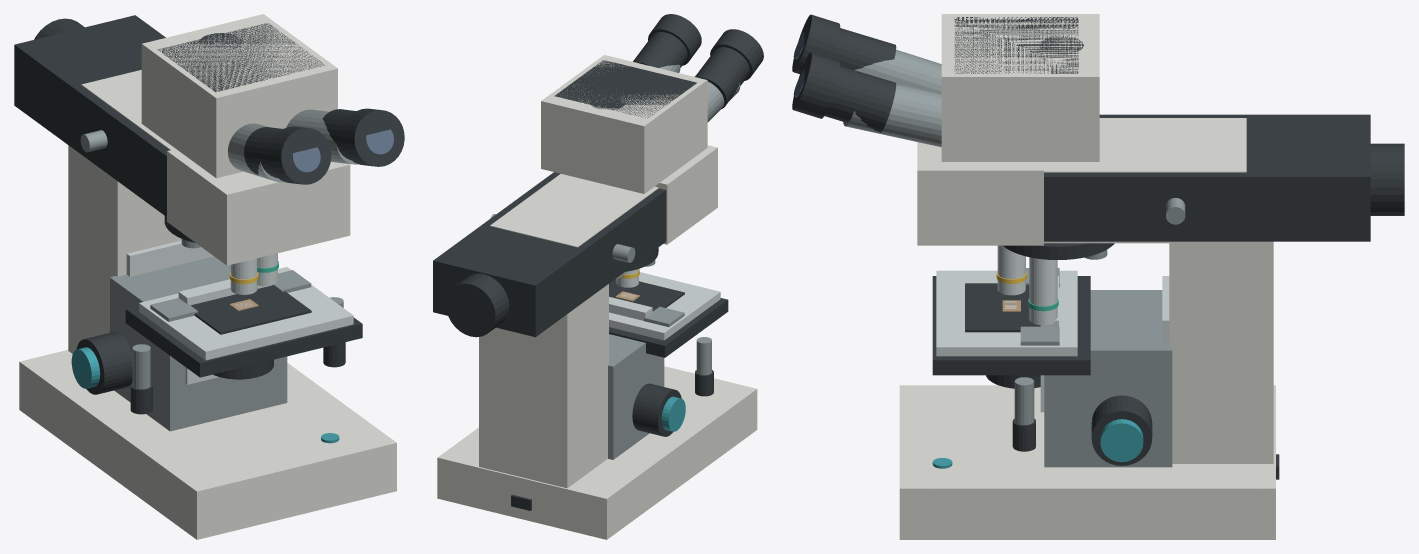
The picture shows the model from 3 angles, left to right: view 1: azimuth 30°, elevation 25°; view 2: azimuth 150°, elevation 25°; view 3: azimuth 270°, elevation 25°; orthographic projection. The views are drawn at different scales.
Visible parts, largest first — view 1: base_footprint, top_binocular_tube, epi_light_beam_housing, front_cube_housing, c_stand_rear, focus_mechanism, upper_dark_cover, metal_stage, stage_sled, stage_insert, rubber_eye_cup, rubber_eye_cup.001 (+21 smaller); view 2: c_stand_rear, base_footprint, epi_light_beam_housing, top_binocular_tube, stand_neck_dovetail, upper_dark_cover, focus_mechanism, front_cube_housing, rear_led_lamphouse, metal_stage, stage_sled, eyepiece_sleeve (+11 smaller); view 3: base_footprint, epi_light_beam_housing, top_binocular_tube, c_stand_rear, focus_mechanism, front_cube_housing, stand_neck_dovetail, metal_stage, upper_dark_cover, stage_sled, eyetube.001, eyepiece_sleeve.001 (+13 smaller).
Boxes of the visible parts, bbox=[...] form: base_footprint: bbox=[19, 350, 396, 539]; top_binocular_tube: bbox=[141, 14, 337, 178]; epi_light_beam_housing: bbox=[14, 15, 169, 216]; front_cube_housing: bbox=[167, 149, 350, 265]; c_stand_rear: bbox=[68, 145, 181, 353]; focus_mechanism: bbox=[110, 256, 287, 431]; upper_dark_cover: bbox=[157, 23, 324, 92]; metal_stage: bbox=[139, 267, 353, 360]; stage_sled: bbox=[125, 305, 362, 377]; stage_insert: bbox=[191, 285, 311, 334]; rubber_eye_cup: bbox=[268, 126, 331, 184]; rubber_eye_cup.001: bbox=[341, 108, 404, 166]; c_stand_rear: bbox=[479, 284, 608, 488]; base_footprint: bbox=[437, 366, 757, 539]; epi_light_beam_housing: bbox=[433, 172, 666, 337]; top_binocular_tube: bbox=[541, 55, 707, 193]; stand_neck_dovetail: bbox=[490, 174, 658, 247]; upper_dark_cover: bbox=[554, 60, 696, 118]; focus_mechanism: bbox=[608, 334, 664, 459]; front_cube_housing: bbox=[655, 145, 717, 244]; rear_led_lamphouse: bbox=[445, 273, 509, 337]; metal_stage: bbox=[609, 272, 720, 340]; stage_sled: bbox=[609, 298, 728, 357]; eyepiece_sleeve: bbox=[695, 47, 749, 108]; base_footprint: bbox=[899, 385, 1275, 539]; epi_light_beam_housing: bbox=[1044, 114, 1370, 241]; top_binocular_tube: bbox=[941, 14, 1099, 161]; c_stand_rear: bbox=[1169, 241, 1273, 463]; focus_mechanism: bbox=[1044, 290, 1172, 467]; front_cube_housing: bbox=[917, 142, 1043, 245]; stand_neck_dovetail: bbox=[1044, 118, 1246, 243]; metal_stage: bbox=[936, 270, 1077, 356]; upper_dark_cover: bbox=[954, 17, 1078, 73]; stage_sled: bbox=[932, 276, 1090, 375]; eyetube.001: bbox=[843, 83, 941, 147]; eyepiece_sleeve.001: bbox=[824, 66, 896, 132].
Bounding box in the file's own units: 0.277 × 0.5163 × 0.6281.
